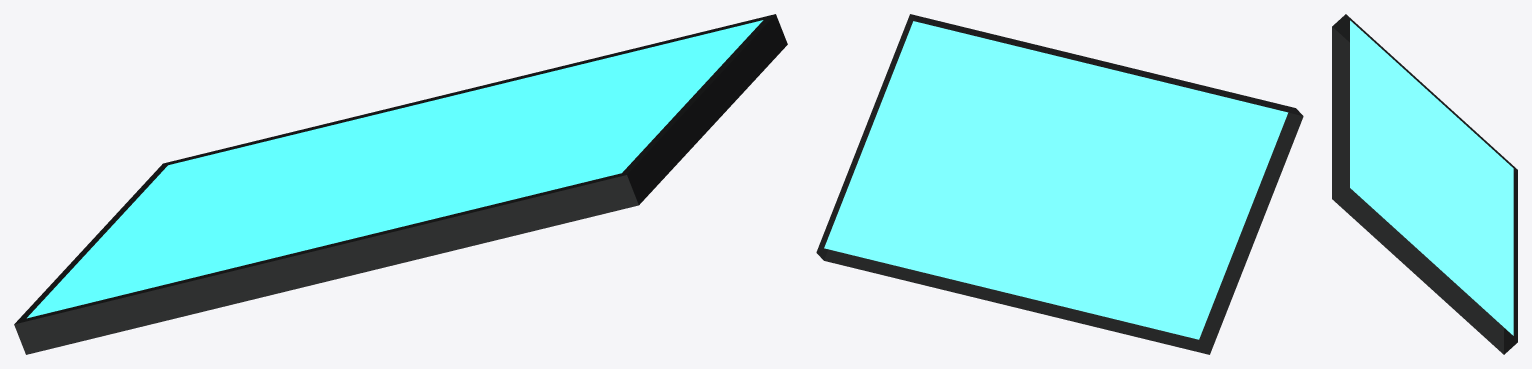
File: Screen_LODGroup.fbx
The picture shows the model from 3 angles, left to right: view 1: azimuth 30°, elevation 25°; view 2: azimuth 150°, elevation 25°; view 3: azimuth 270°, elevation 25°; orthographic projection. The views are drawn at different scales.
Parts seen in each view (by area): view 1: Screen_LOD0; view 2: Screen_LOD0; view 3: Screen_LOD0.
Boxes of the visible parts, box(x1,y1,x2,y2) form: Screen_LOD0: box(14, 14, 787, 354); Screen_LOD0: box(816, 14, 1303, 354); Screen_LOD0: box(1332, 14, 1517, 354).
Size of what is drawn, in the model's own units: 0.84 by 0.382 by 0.382.
